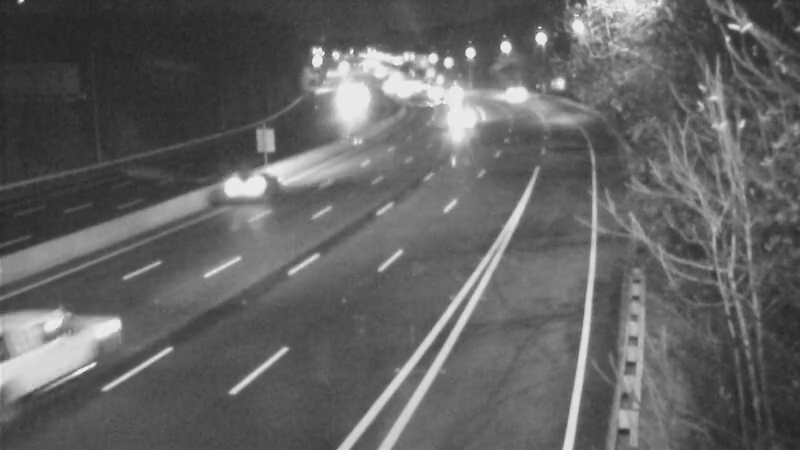vehicle: (1, 313, 98, 423), (214, 143, 294, 223), (488, 67, 538, 117), (416, 80, 466, 130), (436, 96, 486, 146)
